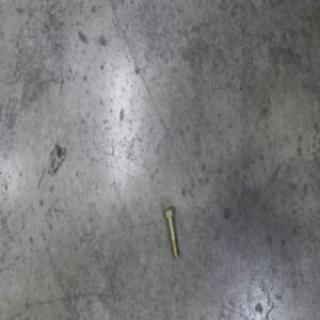Bolttrack_idkeyframe: (162, 204, 180, 259)
